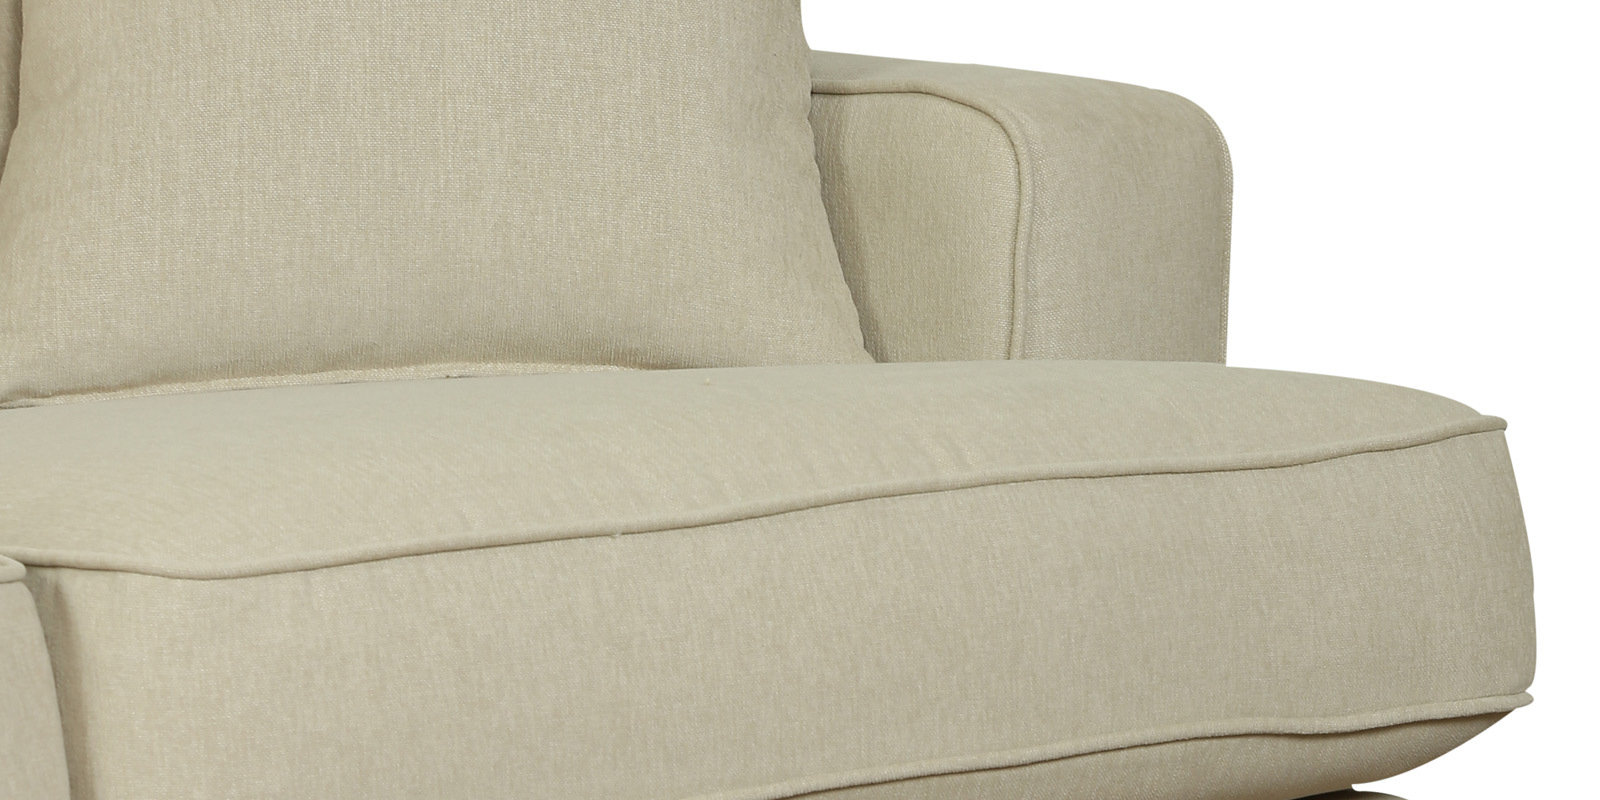Parana Three Seater Sofa in Beige Color by CasaCraft: (1, 5, 1537, 800)
